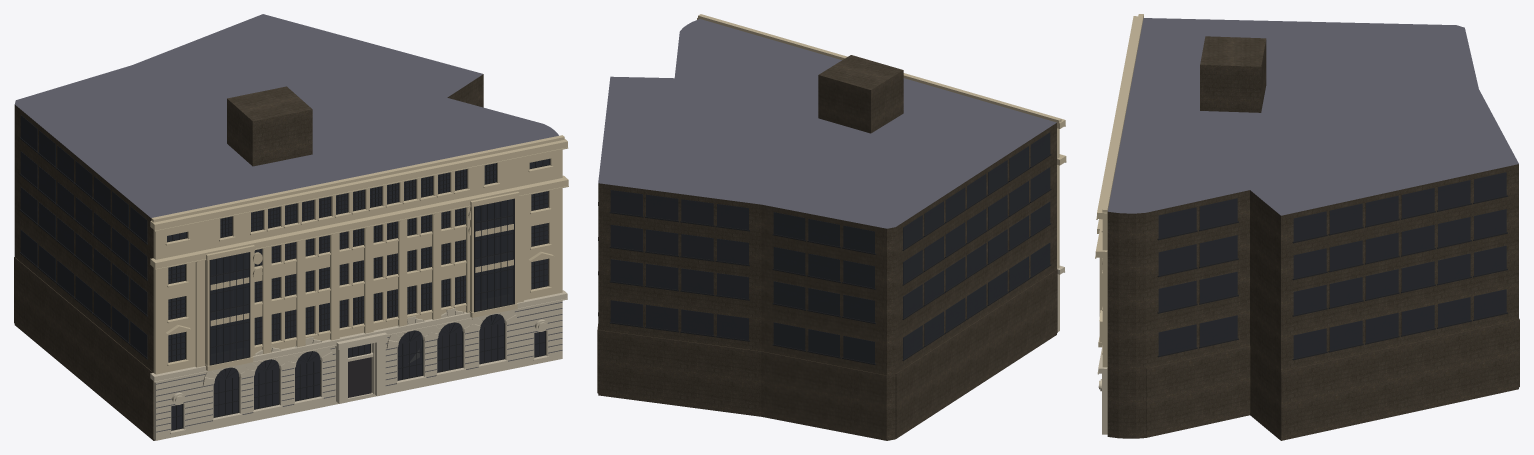
File: barclay_hero_mobile.glb
3 renders of one model, left to right at view 1: azimuth 30°, elevation 25°; view 2: azimuth 150°, elevation 25°; view 3: azimuth 270°, elevation 25°, orthographic. The views are drawn at different scales.
Parts seen in each view (by area): view 1: Floor_05, Floor_01, Floor_02, Floor_03, Floor_04, Floor_00, Door_entrance_frame; view 2: Floor_05, Floor_04, Floor_01, Floor_02, Floor_03; view 3: Floor_05, Floor_04, Floor_02, Floor_01, Floor_03.
Boxes of the visible parts, x1,y1,x2,y2 form: Floor_05: (14, 14, 568, 268); Floor_01: (14, 257, 567, 440); Floor_02: (14, 76, 566, 440); Floor_03: (19, 168, 562, 374); Floor_04: (14, 74, 568, 440); Floor_00: (156, 355, 562, 440); Door_entrance_frame: (274, 335, 452, 412); Floor_05: (598, 14, 1065, 254); Floor_04: (598, 123, 1066, 438); Floor_01: (597, 267, 1064, 438); Floor_02: (597, 123, 1064, 440); Floor_03: (598, 135, 1059, 324); Floor_05: (1095, 14, 1518, 257); Floor_04: (1095, 164, 1518, 440); Floor_02: (1098, 164, 1519, 440); Floor_01: (1097, 319, 1519, 438); Floor_03: (1099, 219, 1507, 367).
Size of the model in its own units: 38.64 by 24.43 by 34.67.
4 materials, 4 textured.
